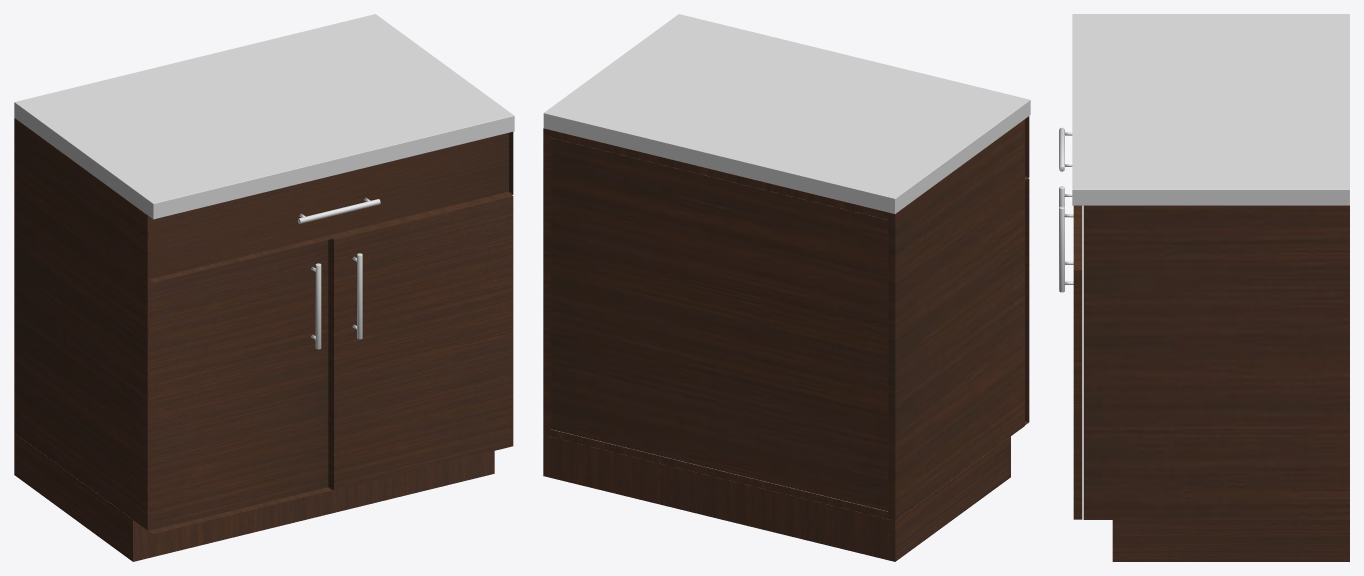
File: cabinet4.fbx
3 renders of one model, left to right at view 1: azimuth 30°, elevation 25°; view 2: azimuth 150°, elevation 25°; view 3: azimuth 270°, elevation 25°, orthographic. The views are drawn at different scales.
Visible parts, largest first — view 1: Part.027, Part.017, Part.019, Carcass.005, Part.025, Base Assembly.002, Pull 8in (203mm) Bar.008; view 2: Carcass.005, Part.027, Base Assembly.002, Part.017; view 3: Carcass.005, Part.027, Base Assembly.002, Part.019, Part.025, Pull 8in (203mm) Bar.009.
Part boxes in pixels (x1,y1,x2,y2): Part.027: (14, 14, 514, 219); Part.017: (149, 239, 332, 533); Part.019: (332, 195, 513, 489); Carcass.005: (14, 118, 149, 530); Part.025: (149, 132, 513, 282); Base Assembly.002: (14, 433, 494, 561); Pull 8in (203mm) Bar.008: (311, 263, 321, 349); Carcass.005: (543, 119, 1024, 520); Part.027: (543, 14, 1030, 213); Base Assembly.002: (543, 435, 1010, 561); Part.017: (1025, 178, 1029, 424); Carcass.005: (1083, 205, 1349, 519); Part.027: (1072, 14, 1349, 205); Base Assembly.002: (1112, 520, 1349, 561); Part.019: (1073, 269, 1082, 519); Part.025: (1073, 205, 1082, 268); Pull 8in (203mm) Bar.009: (1059, 206, 1073, 292).
Bounding box in the file's own units: 91.44 × 90.17 × 63.83.
5 materials, 2 textured.
